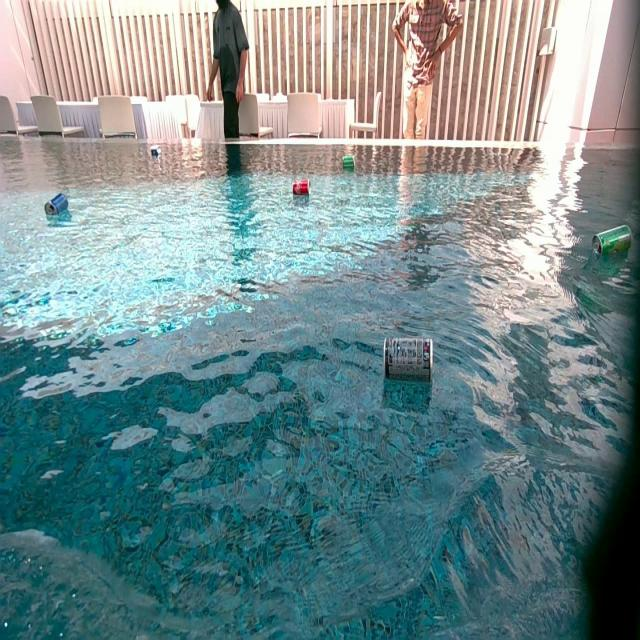Cans: (383, 334, 432, 385), (596, 225, 634, 259), (44, 194, 68, 217), (292, 180, 308, 197), (343, 156, 356, 170), (148, 145, 160, 157)
